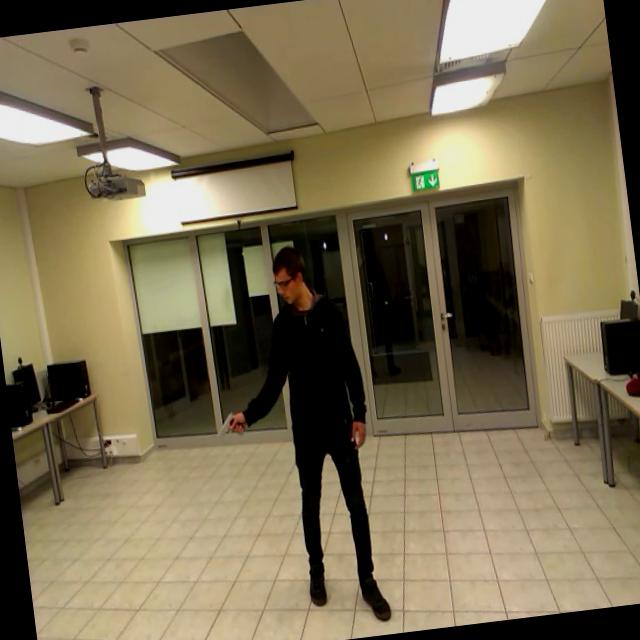handgun: (207, 396, 254, 456)
